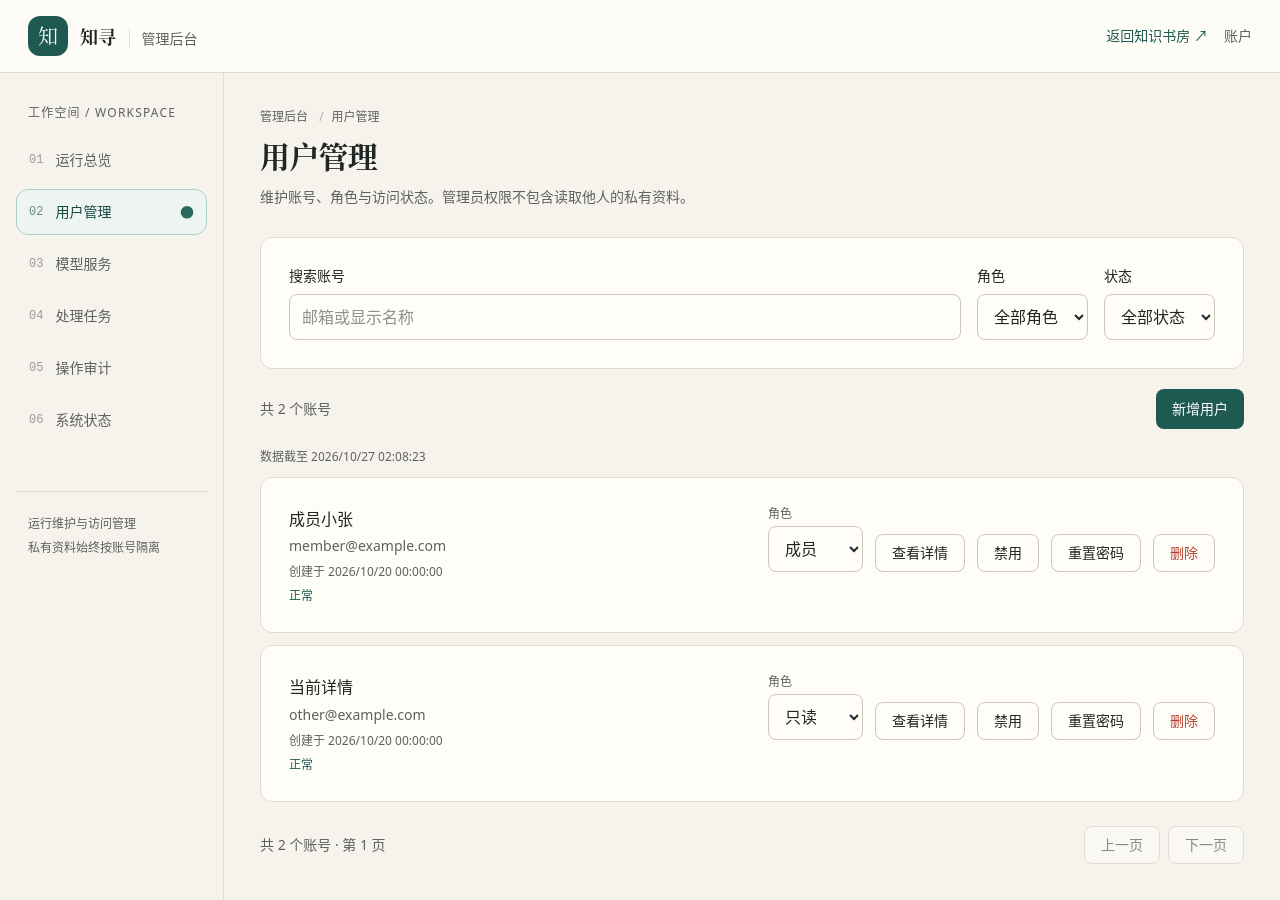
Test: 详情切换拒绝旧对象响应
Click the button with test id "admin-user-detail-open" in the row of "member@example.com": (920, 553) [875, 534, 965, 572]
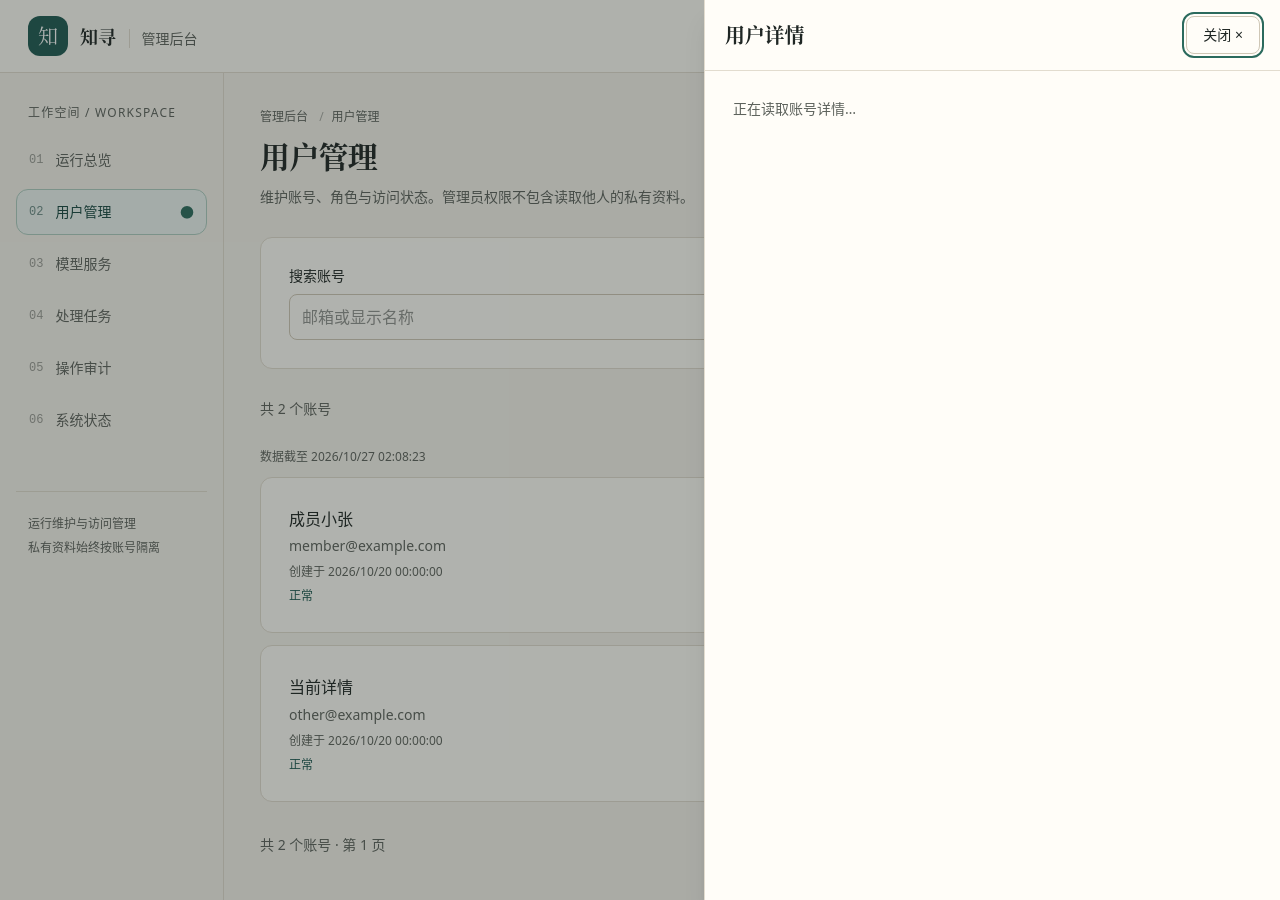
Click the button with aria-label "关闭抽屉": (1223, 35) [1186, 16, 1260, 54]
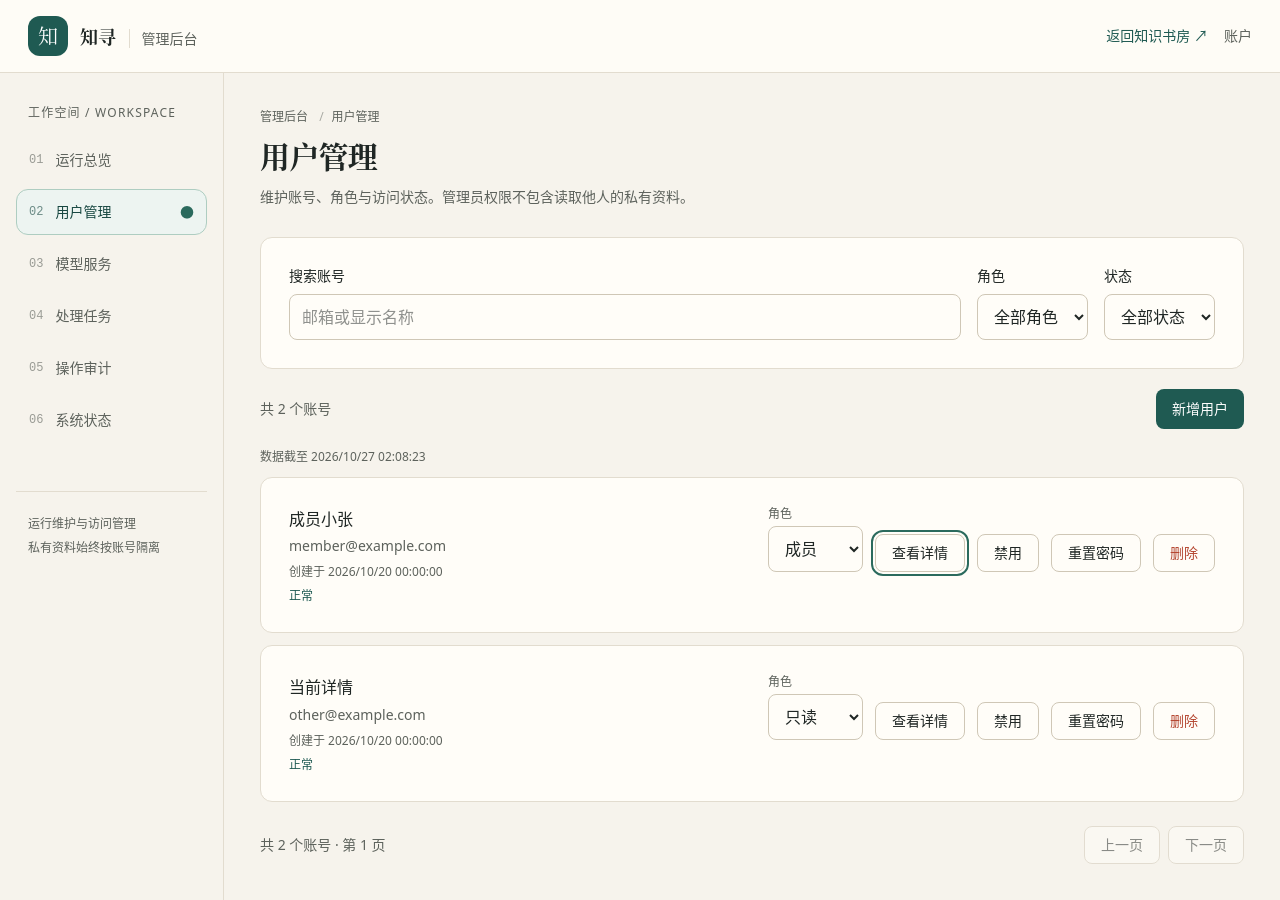
Click the button with test id "admin-user-detail-open" in the row of "other@example.com": (920, 721) [875, 702, 965, 740]
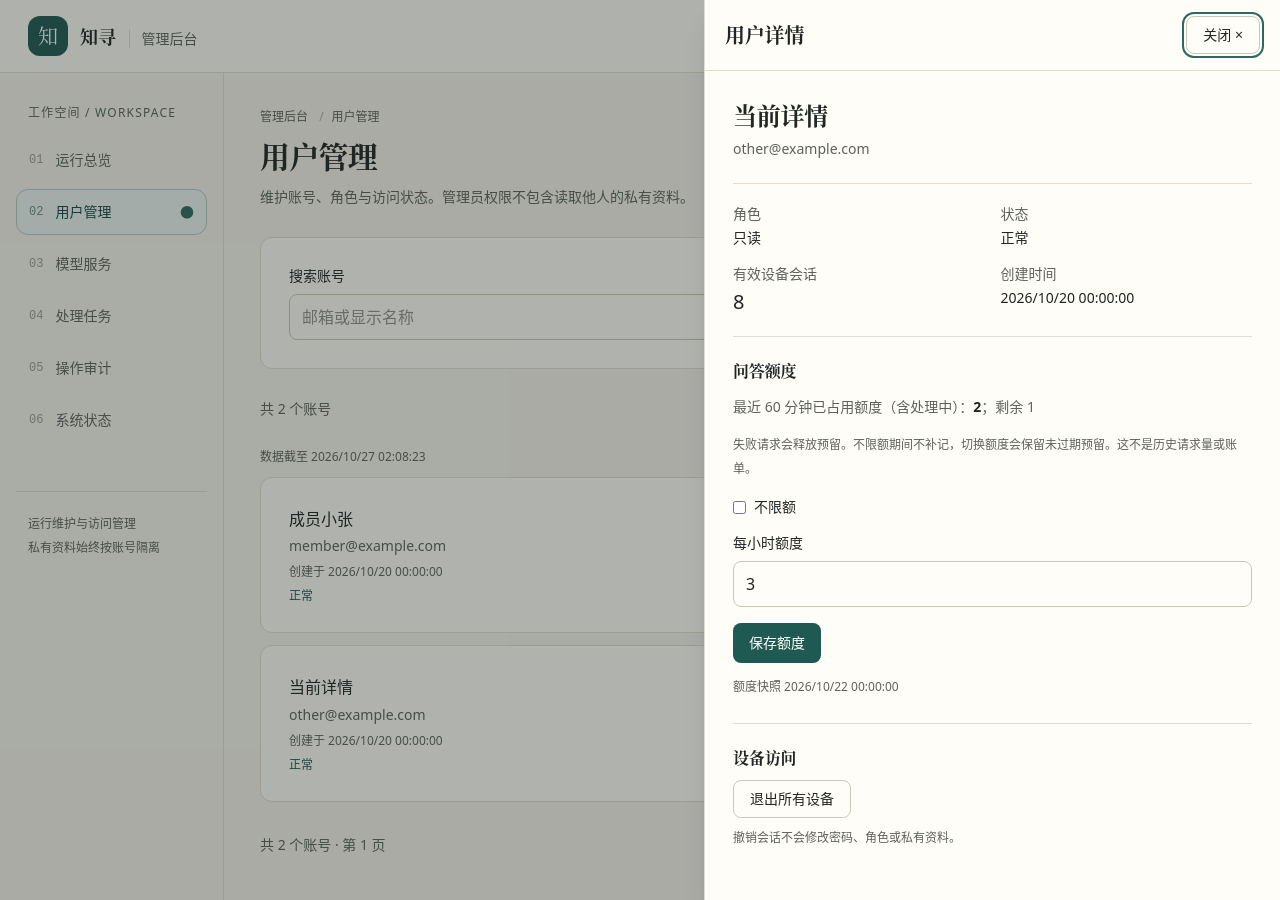
expect the dialog shows "other@example.com": met, box [733, 139, 870, 158]
expect the text with test id "admin-live-sessions" reads "8": met, box [733, 288, 744, 315]
